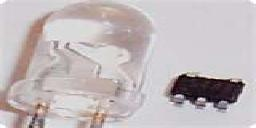LED: (9, 1, 157, 128)
